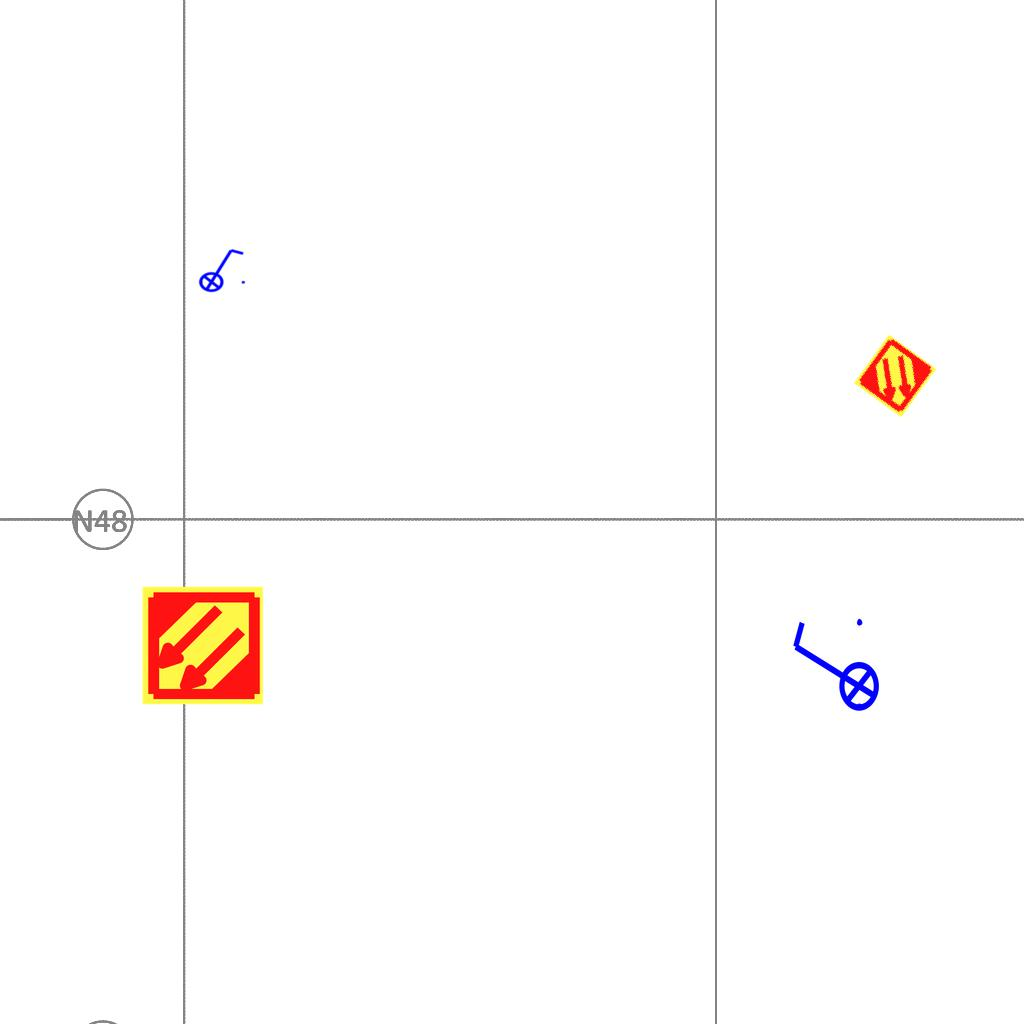ASR_Ansaugrauchmelder: (140, 583, 265, 708), (851, 332, 939, 420)
Ausschalter_beleuchtet: (785, 613, 881, 725), (192, 245, 248, 293)
